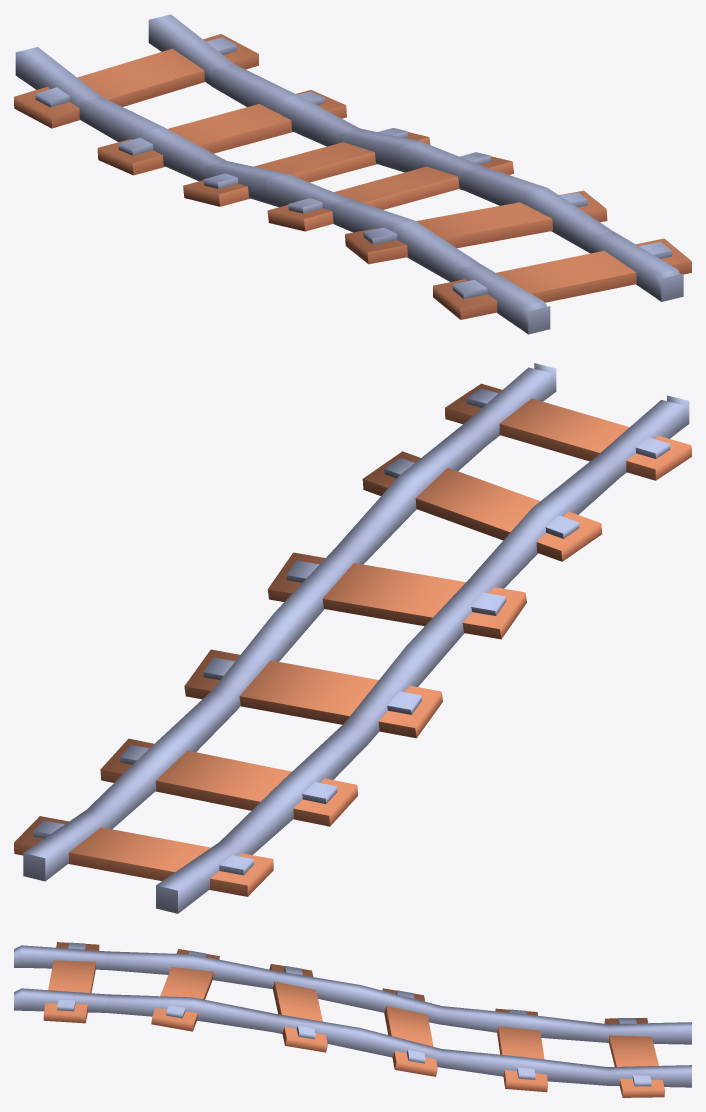
File: kenney-train-railroad-damaged-straight-hill-complete-half.glb
The picture shows the model from 3 angles, top to bottom: view 1: azimuth 30°, elevation 25°; view 2: azimuth 150°, elevation 25°; view 3: azimuth 270°, elevation 25°; orthographic projection. The views are drawn at different scales.
Parts seen in each view (by area): view 1: railroad-damaged-straight-hill-complete-half; view 2: railroad-damaged-straight-hill-complete-half; view 3: railroad-damaged-straight-hill-complete-half.
Boxes of the visible parts, x1,y1,x2,y2 form: railroad-damaged-straight-hill-complete-half: (14,14,691,334); railroad-damaged-straight-hill-complete-half: (14,363,691,913); railroad-damaged-straight-hill-complete-half: (14,942,691,1097).
Bounding box in the file's own units: 1.03 × 0.6006 × 4.
1 material, 1 textured.
